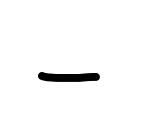minus: (38, 68, 97, 86)
